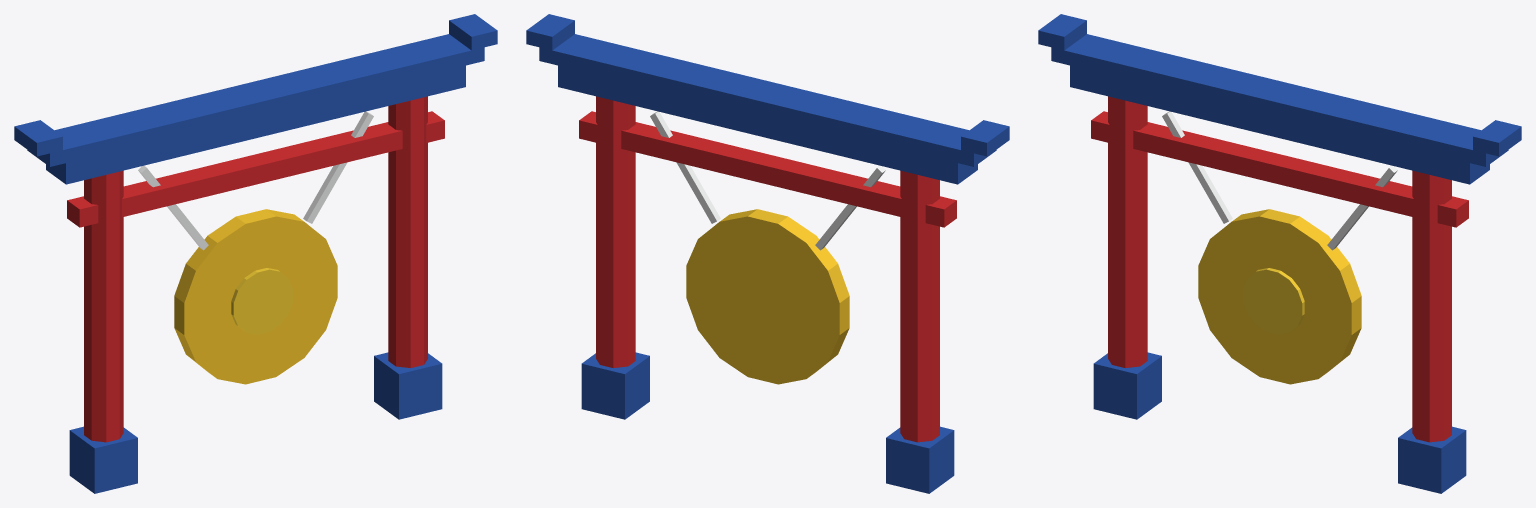
The model's file is GongGate.fbx.
3 renders of one model, left to right at view 1: azimuth 30°, elevation 25°; view 2: azimuth 150°, elevation 25°; view 3: azimuth 330°, elevation 25°, orthographic.
Visible parts, largest first — view 1: ToriiBlue.001, ToriiRed.001, Gold, Yellow.001, White.006; view 2: ToriiBlue.001, ToriiRed.001, Gold, White.006; view 3: ToriiBlue.001, ToriiRed.001, Gold, Yellow.001, White.006.
Boxes of the visible parts, box(x1,y1,x2,y2) form: ToriiBlue.001: box(14, 14, 497, 493); ToriiRed.001: box(67, 96, 444, 442); Gold: box(174, 209, 337, 384); Yellow.001: box(231, 268, 293, 334); White.006: box(138, 111, 373, 250); ToriiBlue.001: box(526, 14, 1009, 493); ToriiRed.001: box(579, 96, 956, 442); Gold: box(686, 209, 849, 384); White.006: box(650, 111, 885, 250); ToriiBlue.001: box(1038, 14, 1521, 493); ToriiRed.001: box(1091, 96, 1468, 442); Gold: box(1198, 209, 1361, 384); Yellow.001: box(1242, 268, 1304, 334); White.006: box(1162, 111, 1397, 250).
Size of the model in its own units: 10.6 by 8 by 1.
